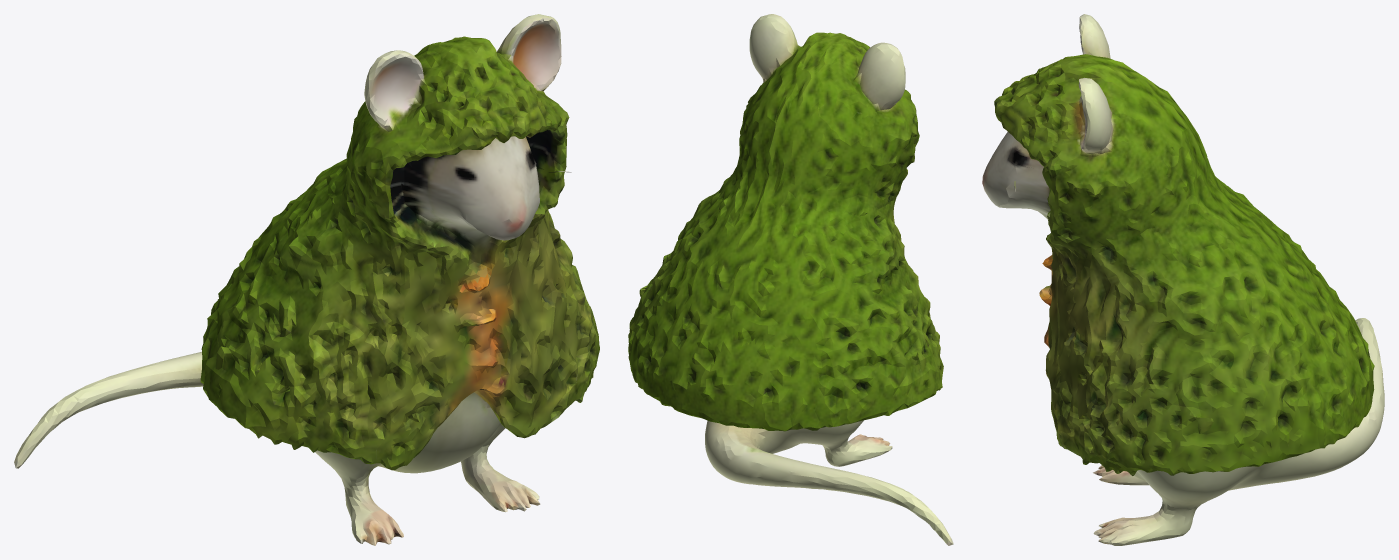
3 renders of one model, left to right at view 1: azimuth 30°, elevation 25°; view 2: azimuth 150°, elevation 25°; view 3: azimuth 270°, elevation 25°, orthographic. The views are drawn at different scales.
Parts seen in each view (by area): view 1: MossCloak; view 2: MossCloak; view 3: MossCloak.
Part boxes in pixels (x1,y1,x2,y2): MossCloak: (14, 14, 599, 545); MossCloak: (628, 14, 953, 545); MossCloak: (982, 14, 1384, 545).
Size of the model in its own units: 1.89 by 1.88 by 1.49.
1 material, 1 textured.
